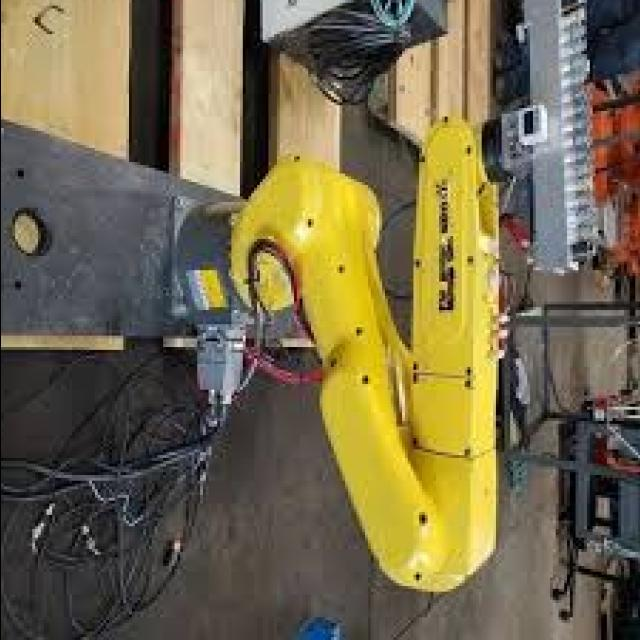Robotic-arm: (172, 102, 516, 598)
